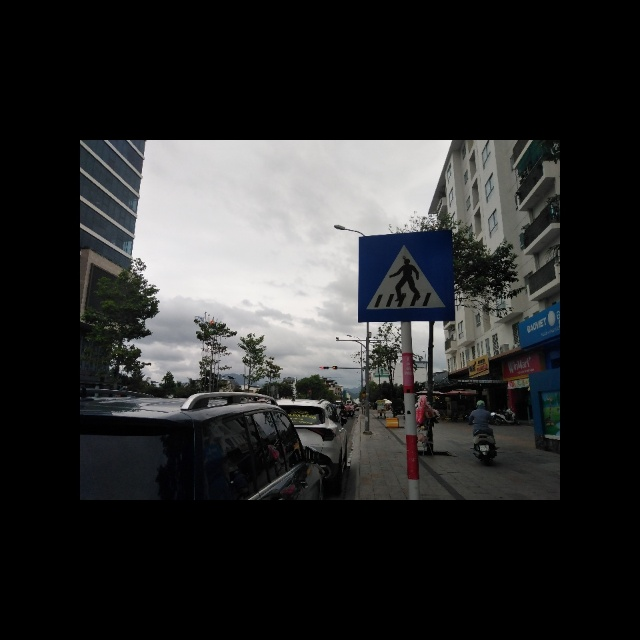Đường dành cho người đi bộ: (355, 229, 456, 323)
